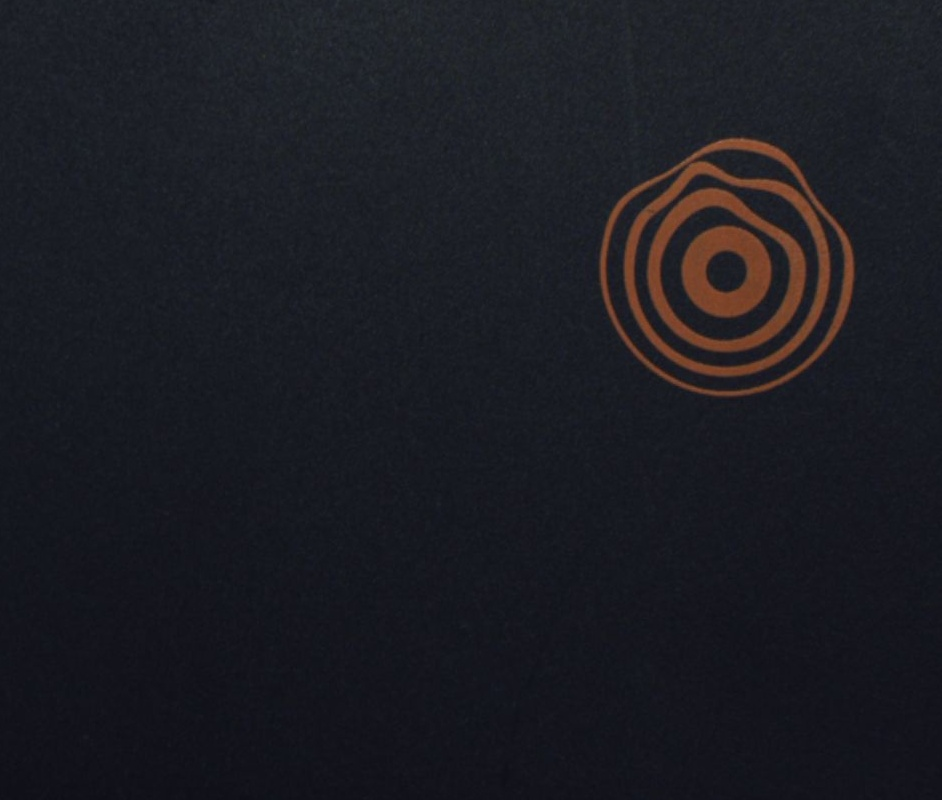BU_HG680GY: (596, 132, 856, 398)
